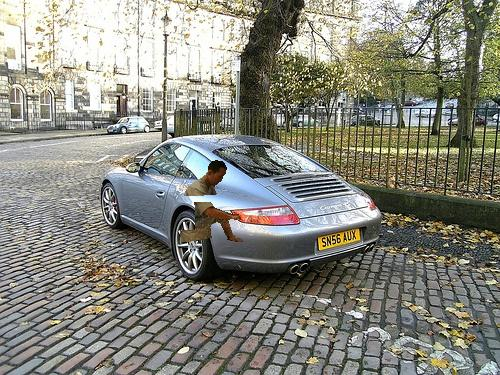tampered: (181, 161, 243, 242)
